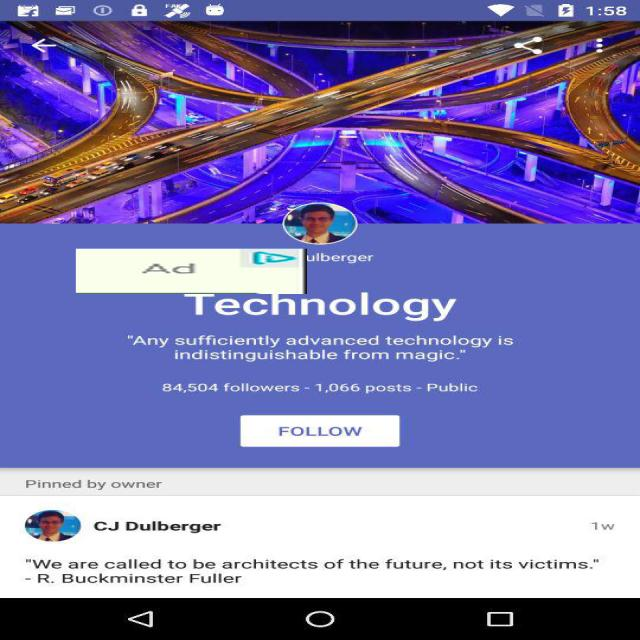sneaking: (76, 249, 307, 294)
